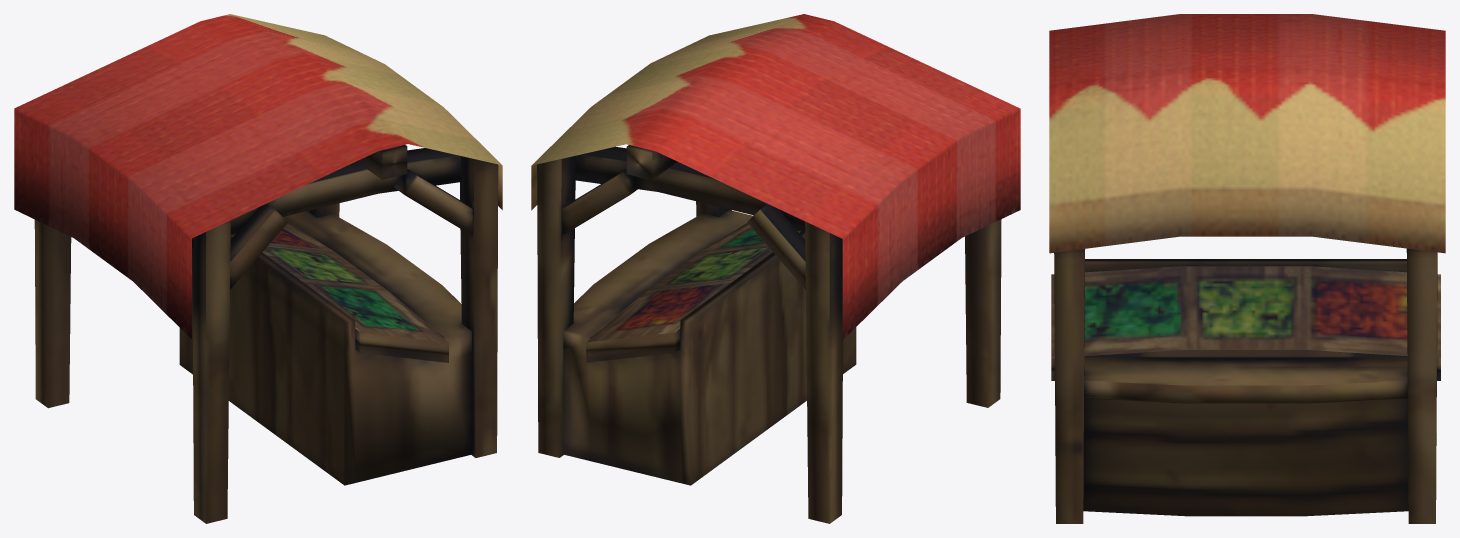
Rendered from MarketStall.fbx.
3 views of the same model, side by side, from view 1: azimuth 30°, elevation 25°; view 2: azimuth 150°, elevation 25°; view 3: azimuth 270°, elevation 25° (orthographic). The views are drawn at different scales.
Visible parts, largest first — view 1: VillageStall; view 2: VillageStall; view 3: VillageStall.
Boxes of the visible parts, x1=… form: VillageStall: x1=14, y1=14, x2=502, y2=523; VillageStall: x1=531, y1=14, x2=1020, y2=523; VillageStall: x1=1049, y1=14, x2=1445, y2=523.
Bounding box in the file's own units: 385 × 413 × 381.
